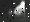person: (10, 1, 25, 20)
